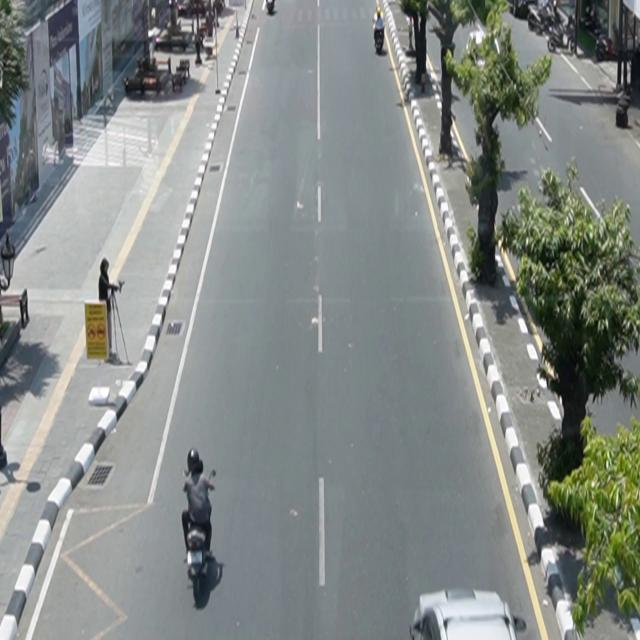car: (410, 588, 527, 640)
